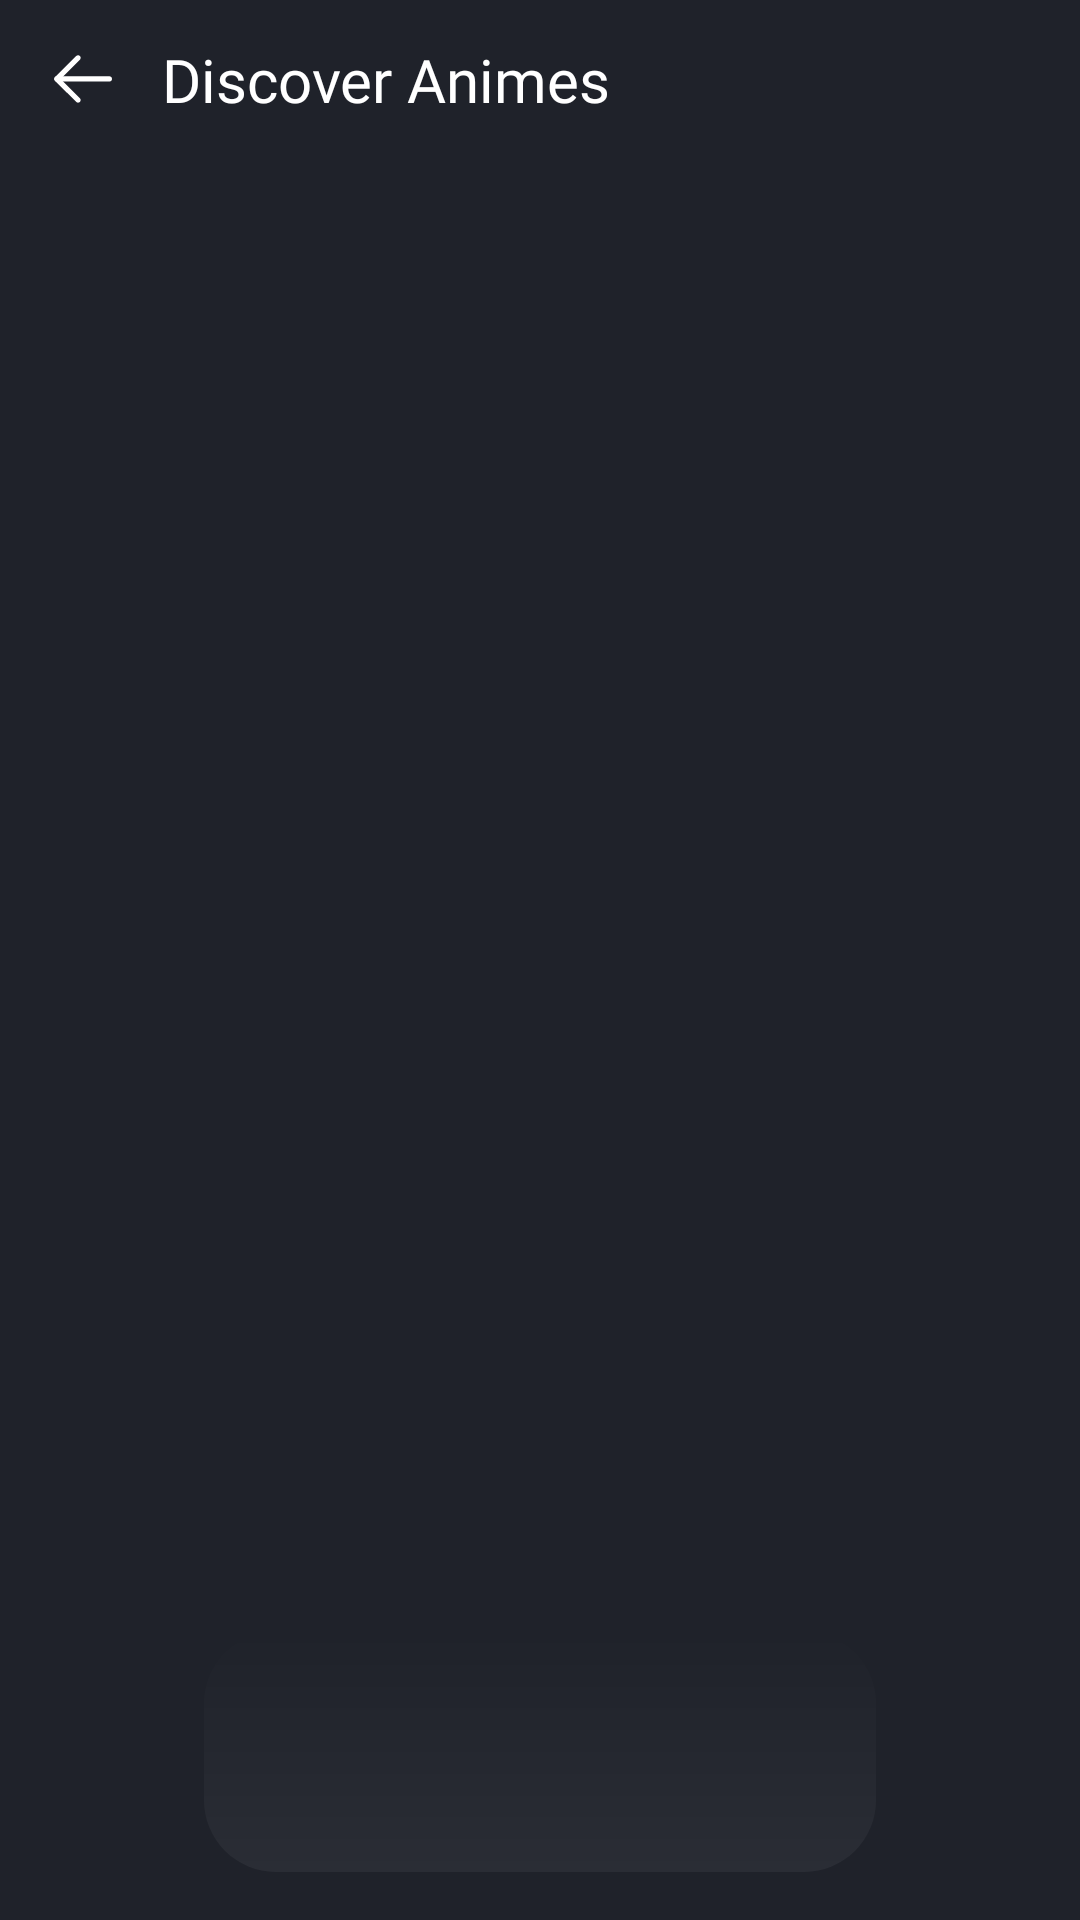

Named icons in this screenshot (1080px x 1920px) and their centers, [x,y]:
back: [83,79]
